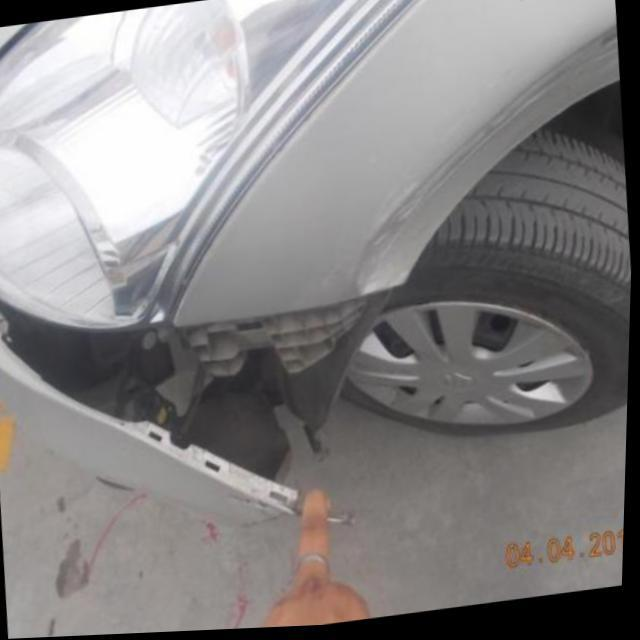dislocated part: (0, 288, 403, 525)
